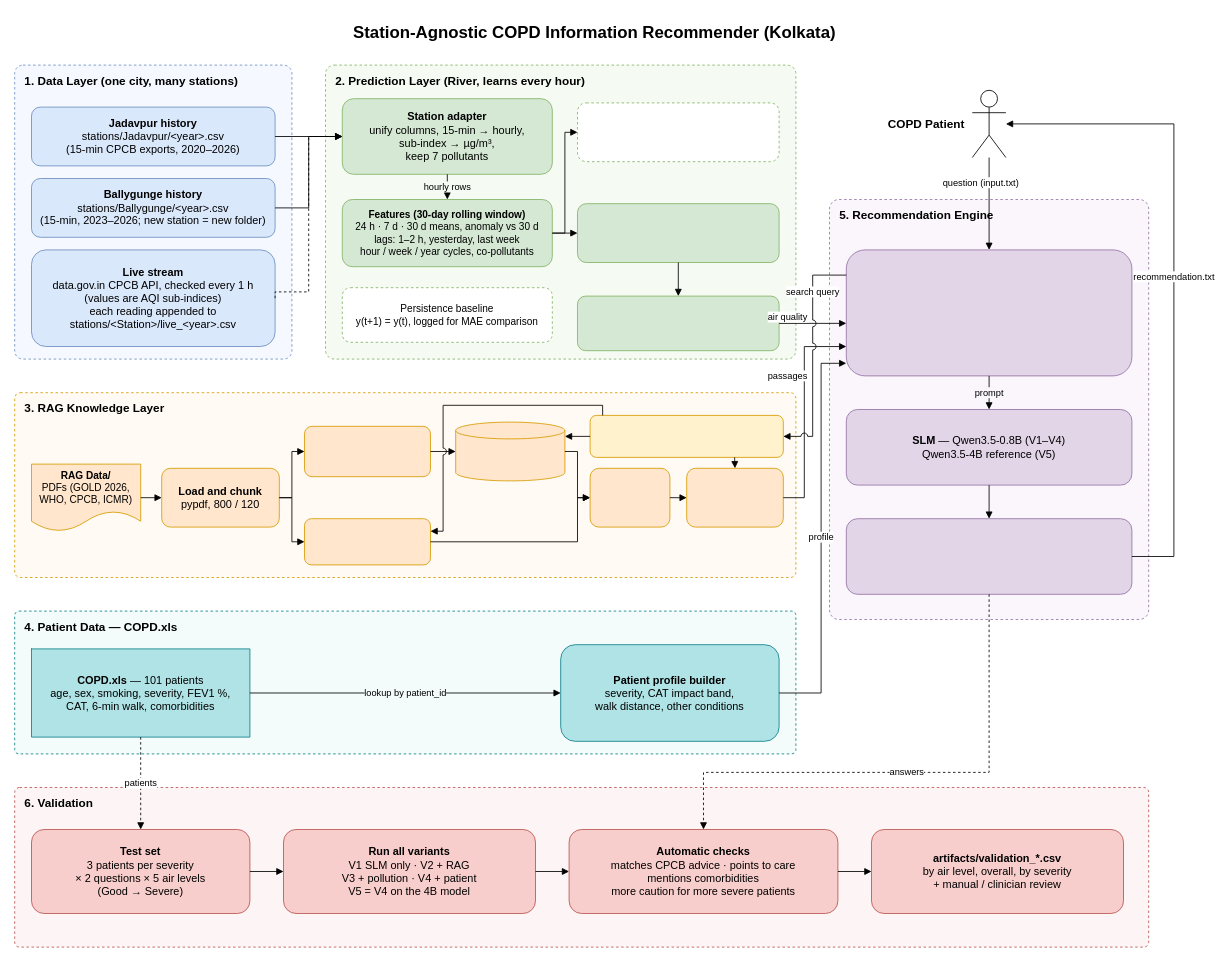
This 1229x962 diagram has some shape labels left out. The centre of each missing label's shape, as x and y in pixels:
"bge reranker keep top 4" goes at (x=734, y=497).
"BM25 keyword index" goes at (x=367, y=541).
"Chroma vector store" goes at (x=510, y=451).
"Context builder question + patient profile + pollution forecast + top-4 passages" goes at (x=988, y=312).
"Dense embeddings bge-small" goes at (x=367, y=451).
"Global model (ARF) learns from all stations, forecasts for every station" goes at (x=678, y=232).
"Local models (ARF), one per station logged for MAE comparison only" goes at (x=678, y=132).
"Next-hour PM2.5 forecast + CPCB category and health note" goes at (x=678, y=323).
"Personalised information recommendation" goes at (x=988, y=556).
"RRF fusion, keep top 20" goes at (x=629, y=497).
"Search query (built per question) question + severity + air category" goes at (x=686, y=436).
